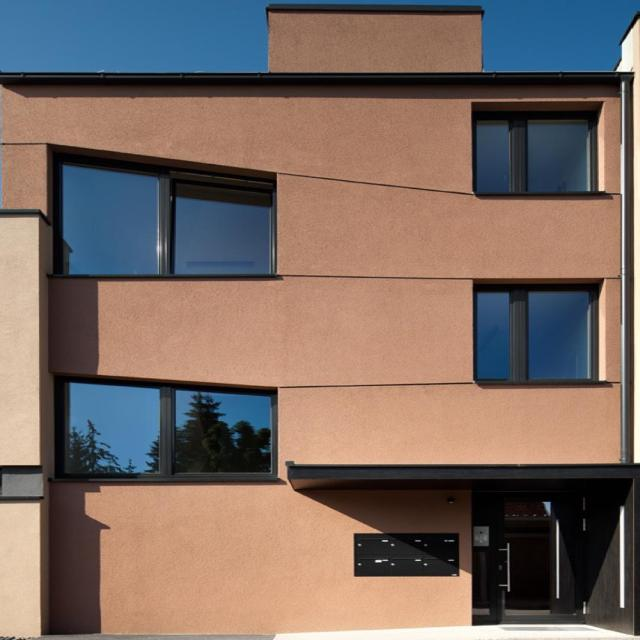door: (471, 483, 561, 620)
window: (53, 161, 269, 274), (55, 380, 269, 476), (472, 287, 588, 382), (474, 117, 589, 193)
